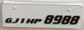character: (69, 15, 80, 25), (44, 14, 54, 24), (52, 15, 62, 24), (61, 15, 71, 24)
